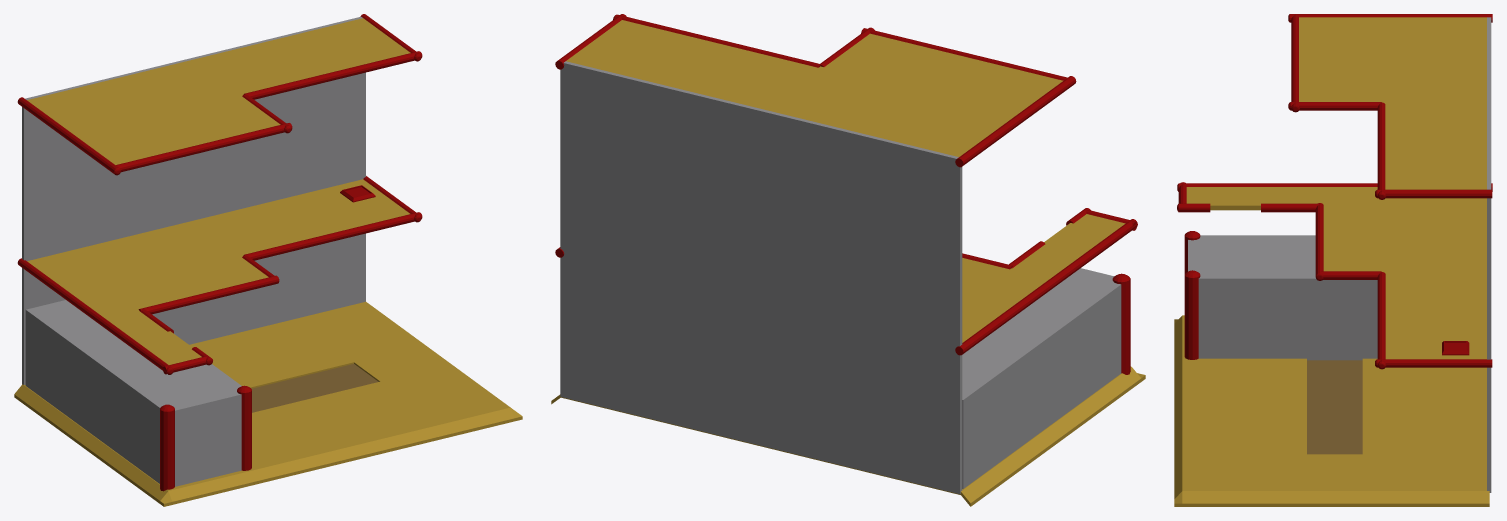
Rendered from wall_structure.fbx.
The picture shows the model from 3 angles, left to right: view 1: azimuth 30°, elevation 25°; view 2: azimuth 150°, elevation 25°; view 3: azimuth 270°, elevation 25°; orthographic projection. The views are drawn at different scales.
Visible parts, largest first — view 1: Cube.001, Cube, Cube.002, Cube.018, Cube.005, Cylinder.008, Cylinder.028, Cylinder.010, Cylinder.027, Cylinder.005, Cylinder.011, Cylinder.025 (+1 smaller); view 2: Cube.001, Cube.018, Cube.002, Cube.005, Cube, Cylinder.008, Cylinder.025, Cylinder.005, Cylinder.027, Cylinder.028; view 3: Cube, Cube.018, Cube.005, Cube.002, Cube.001, Cylinder.004, Cylinder.026, Cylinder.009, Cylinder.010, Cylinder.027, Cylinder.025, Cylinder.008 (+6 smaller).
Boxes of the visible parts, x1,y1,x2,y2 form: Cube.001: (22, 16, 365, 384); Cube: (14, 301, 522, 506); Cube.002: (25, 300, 241, 486); Cube.018: (27, 18, 410, 164); Cube.005: (27, 179, 409, 364); Cylinder.008: (17, 258, 173, 374); Cylinder.028: (115, 123, 292, 172); Cylinder.010: (243, 212, 422, 260); Cylinder.027: (243, 51, 422, 99); Cylinder.005: (160, 404, 174, 491); Cylinder.011: (138, 275, 279, 314); Cylinder.025: (17, 97, 120, 175); Cube.001: (560, 61, 962, 494); Cube.018: (566, 20, 1063, 156); Cube.002: (962, 268, 1121, 488); Cube.005: (962, 214, 1125, 342); Cube: (551, 366, 1145, 506); Cylinder.008: (955, 219, 1137, 355); Cylinder.025: (955, 76, 1076, 167); Cylinder.005: (1112, 273, 1130, 374); Cylinder.027: (613, 14, 820, 67); Cylinder.028: (861, 28, 1068, 80); Cube: (1174, 315, 1489, 506); Cube.018: (1299, 17, 1486, 189); Cube.005: (1186, 187, 1486, 359); Cube.002: (1188, 235, 1377, 360); Cube.001: (1487, 17, 1491, 492); Cylinder.004: (1184, 270, 1200, 359); Cylinder.026: (1375, 189, 1492, 198); Cylinder.009: (1375, 359, 1492, 367); Cylinder.010: (1377, 272, 1386, 369); Cylinder.027: (1377, 102, 1386, 199); Cylinder.025: (1288, 14, 1492, 22); Cylinder.008: (1177, 183, 1492, 191).
Size of the model in its own units: 3366 by 2662 by 2456.
